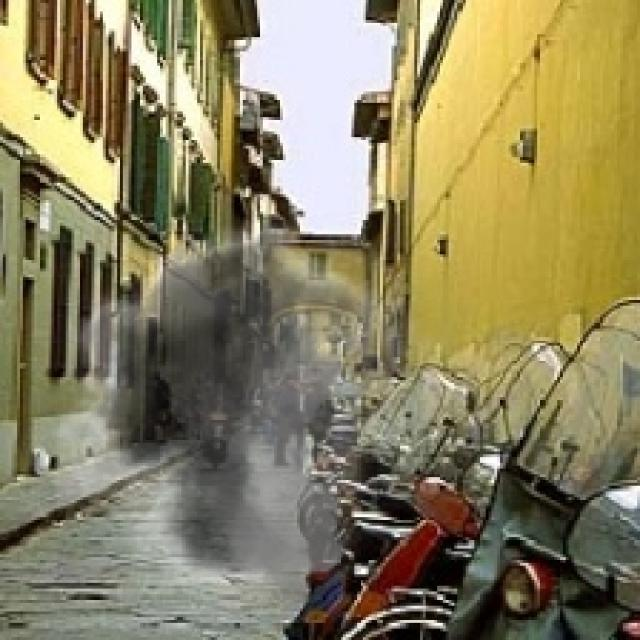smoke: (32, 197, 454, 614)
